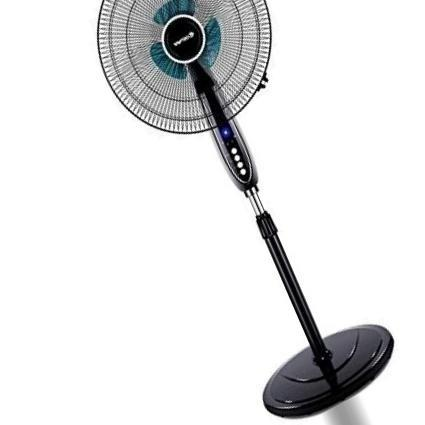fan: (80, 0, 407, 425)
